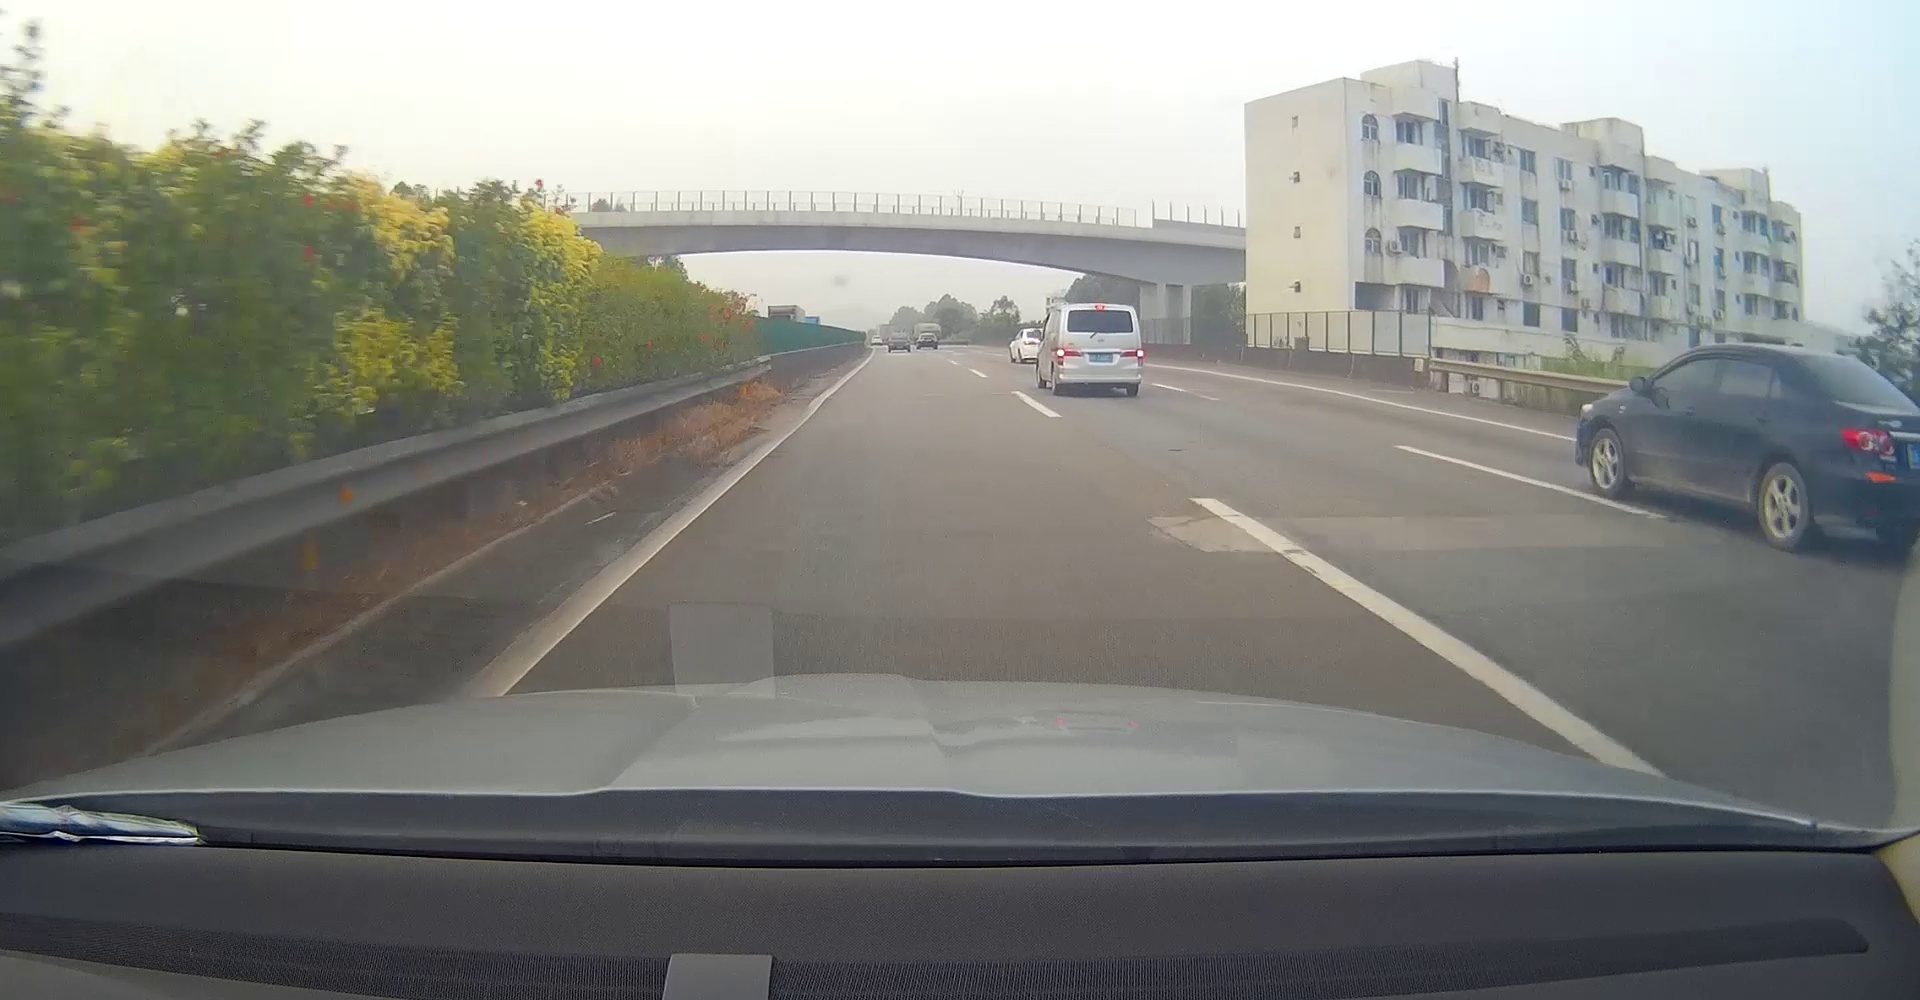L_light: (1057, 346, 1081, 365)
R_light: (1120, 349, 1143, 367)
T_light: (1095, 305, 1105, 310)
day-brake: (1057, 303, 1144, 396)
